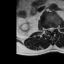CCS_normal: (50, 25, 52, 33)
LFS_severe_stenosis: (54, 25, 56, 30)
LLS_normal: (52, 25, 54, 32)
RFS_stenosis: (45, 26, 48, 31)
RLS_normal: (48, 26, 50, 32)
